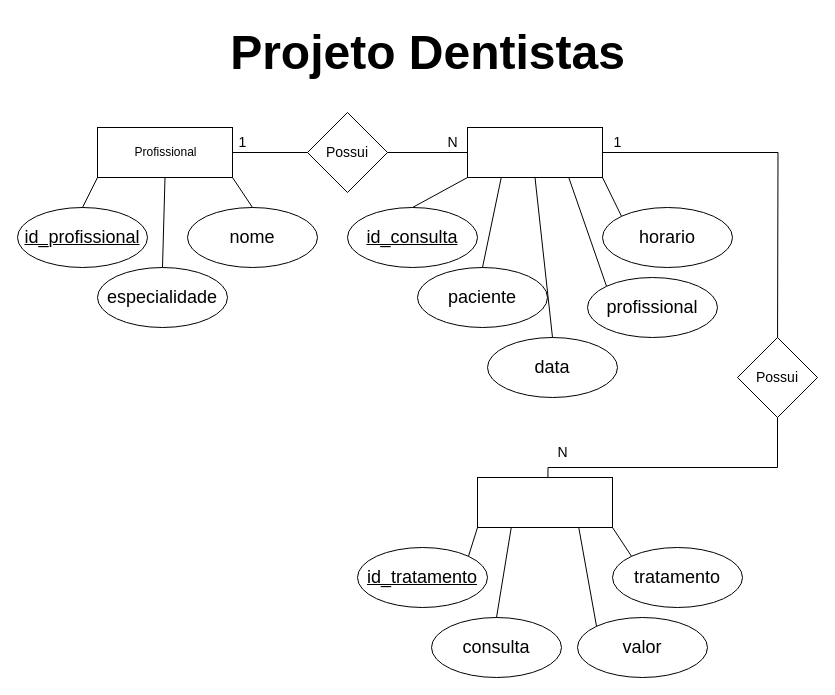
The diagram is 835 pixels wide and 695 high, and some of its shapes have lost their labels. Here are the shapes that lost their labels. From the top down, the box of each, then its label:
(466, 126, 602, 178): consultas
(476, 476, 612, 528): tratamentos
